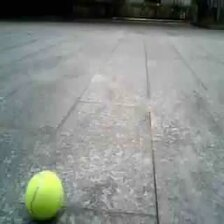tennis: (25, 171, 64, 216)
